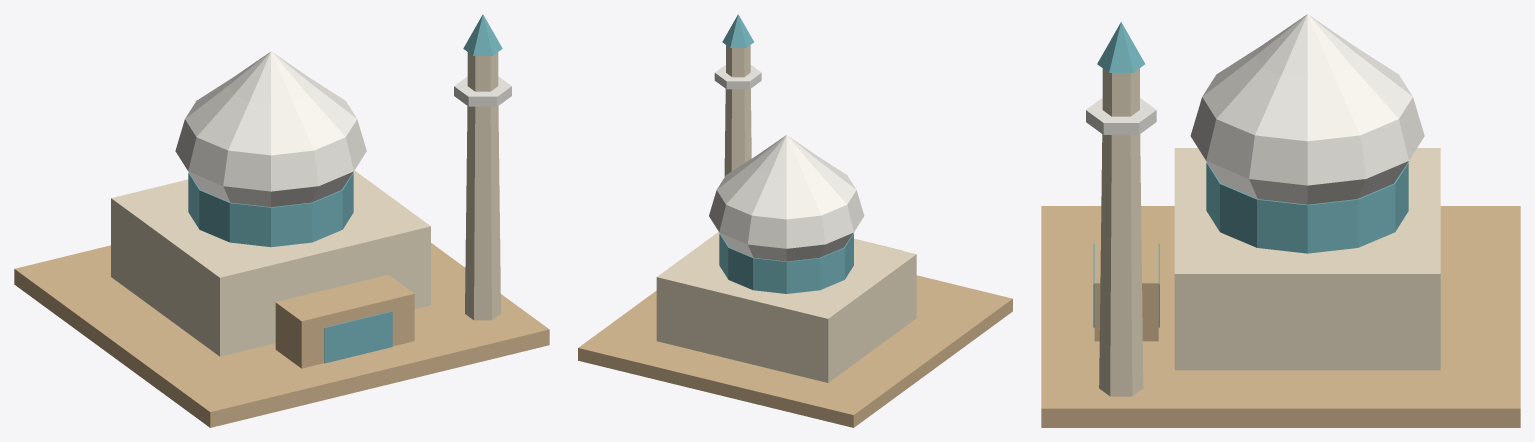
The model's file is temple.glb.
The picture shows the model from 3 angles, left to right: view 1: azimuth 30°, elevation 25°; view 2: azimuth 150°, elevation 25°; view 3: azimuth 270°, elevation 25°; orthographic projection. The views are drawn at different scales.
Visible parts, largest first — view 1: desert_temple; view 2: desert_temple; view 3: desert_temple.
Part boxes in pixels (x1,y1,x2,y2): desert_temple: [14, 14, 549, 427]; desert_temple: [578, 14, 1012, 427]; desert_temple: [1041, 14, 1520, 427].
Size of the model in its own units: 0.9 by 0.8 by 0.9.
